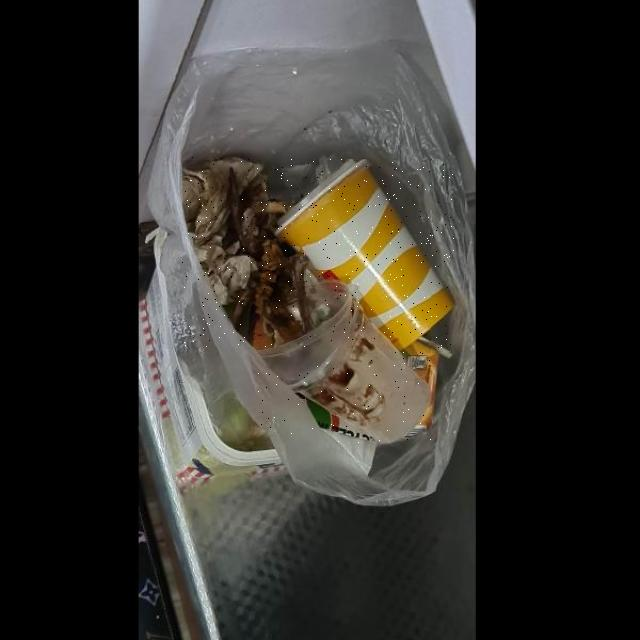biowaste: (183, 157, 305, 347)
paper: (277, 160, 455, 352)
plastic: (259, 281, 431, 444)
